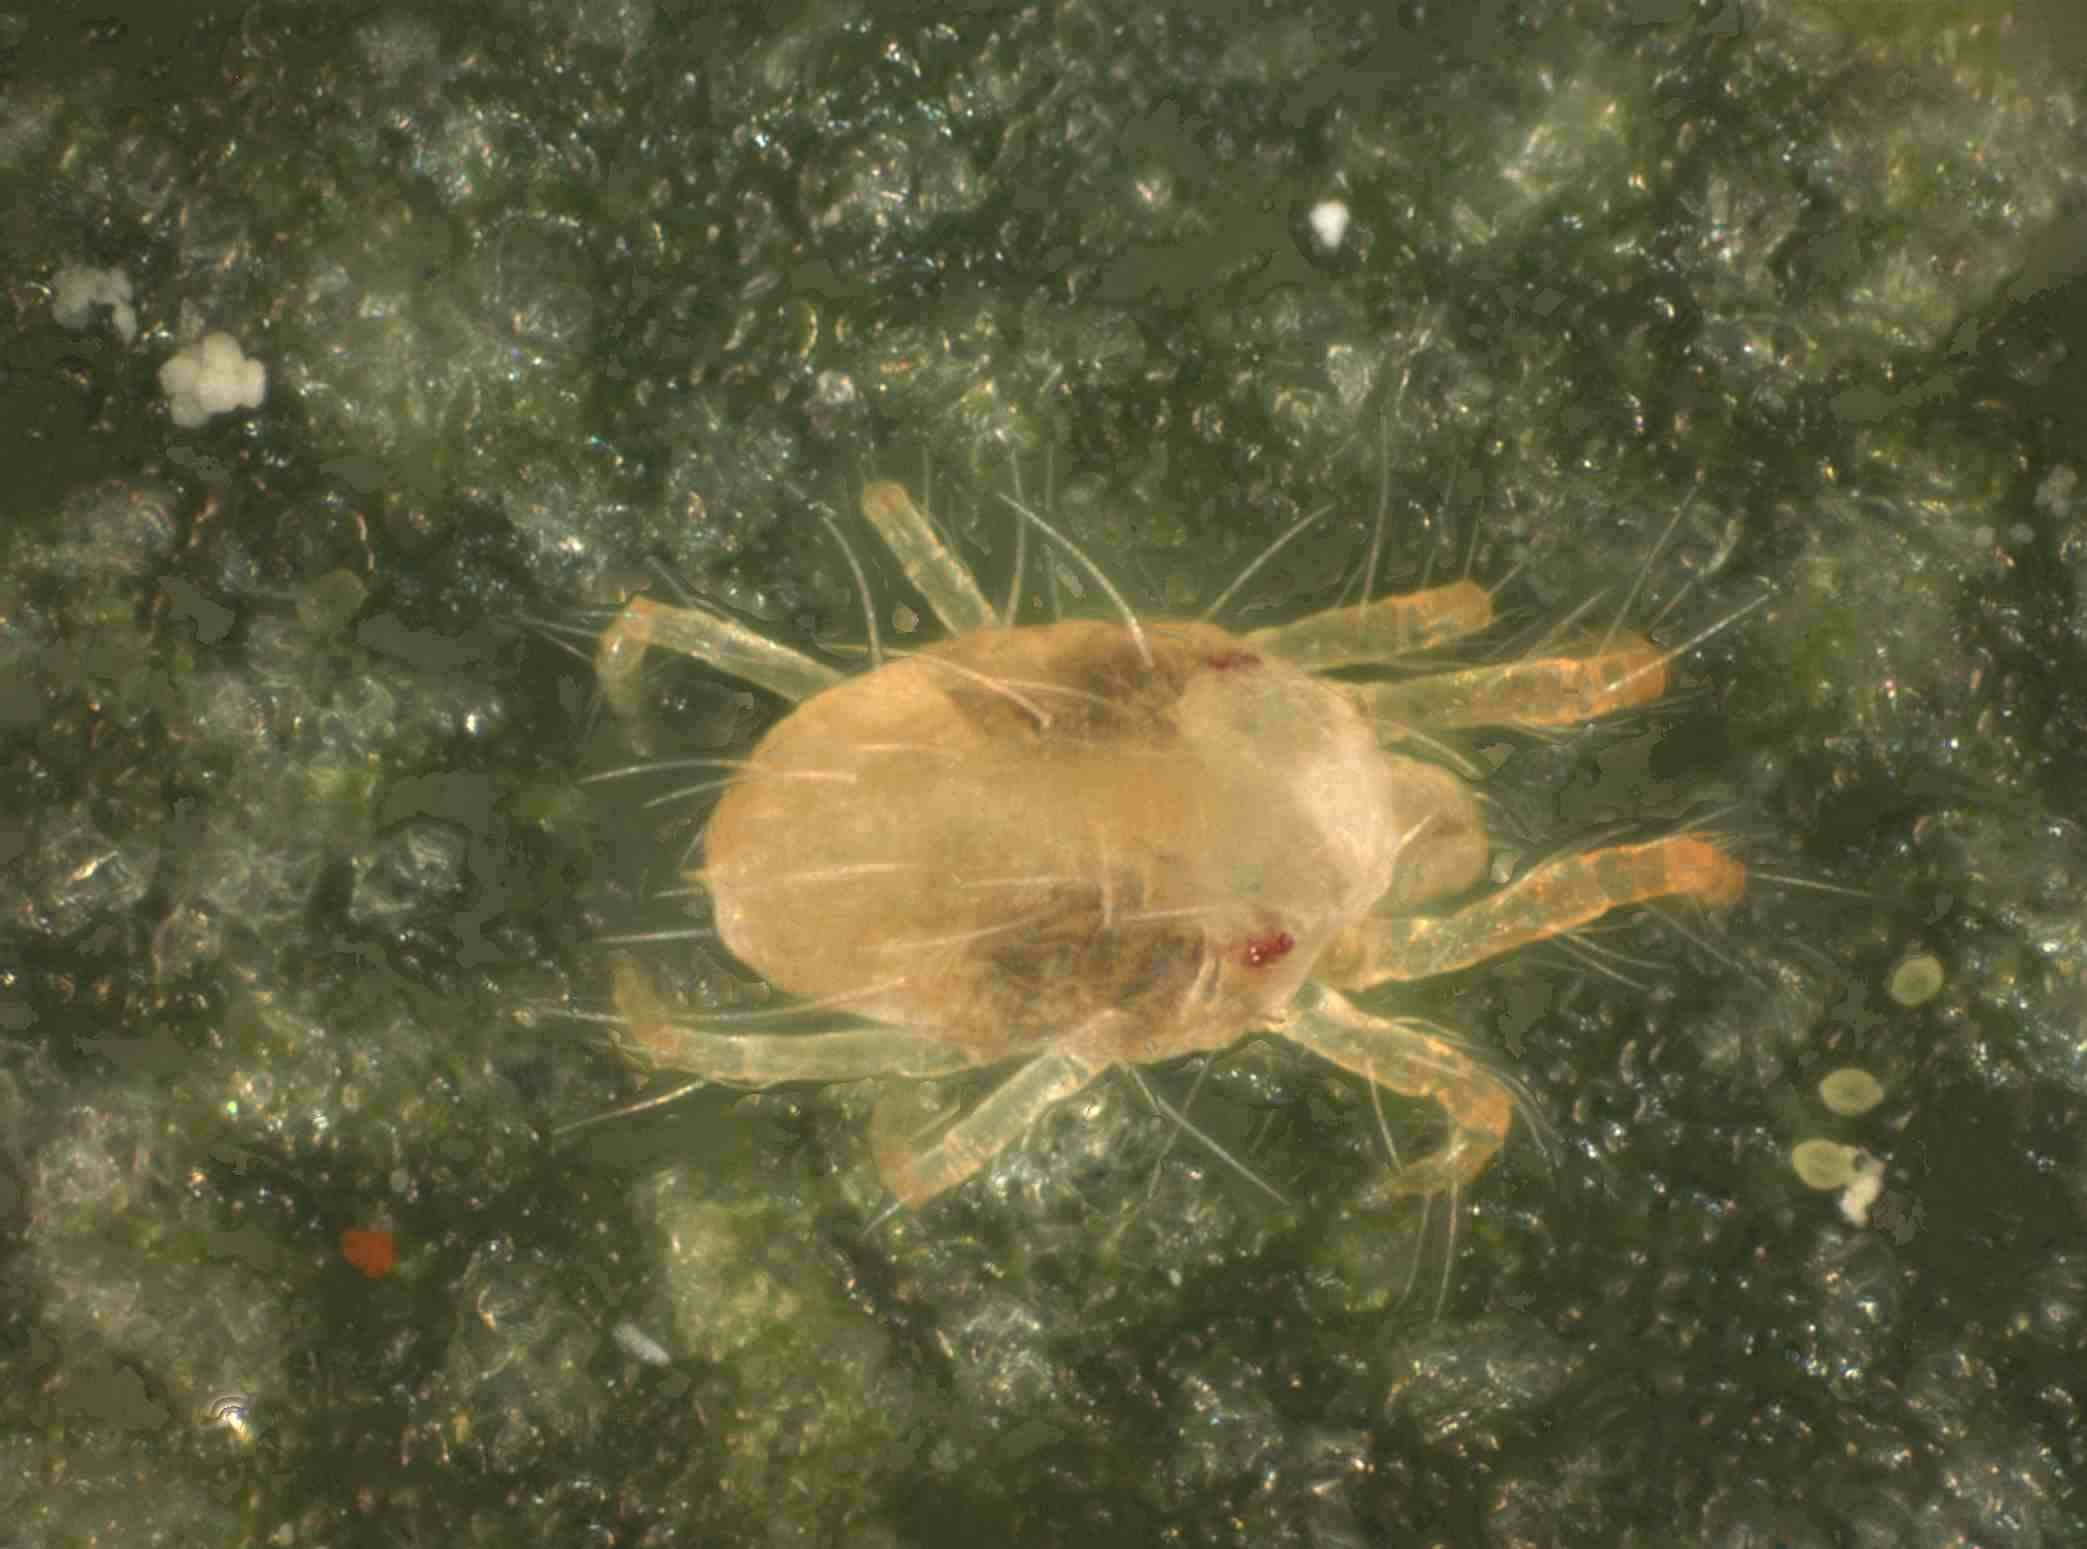Mites: (426, 376, 1750, 1422)
